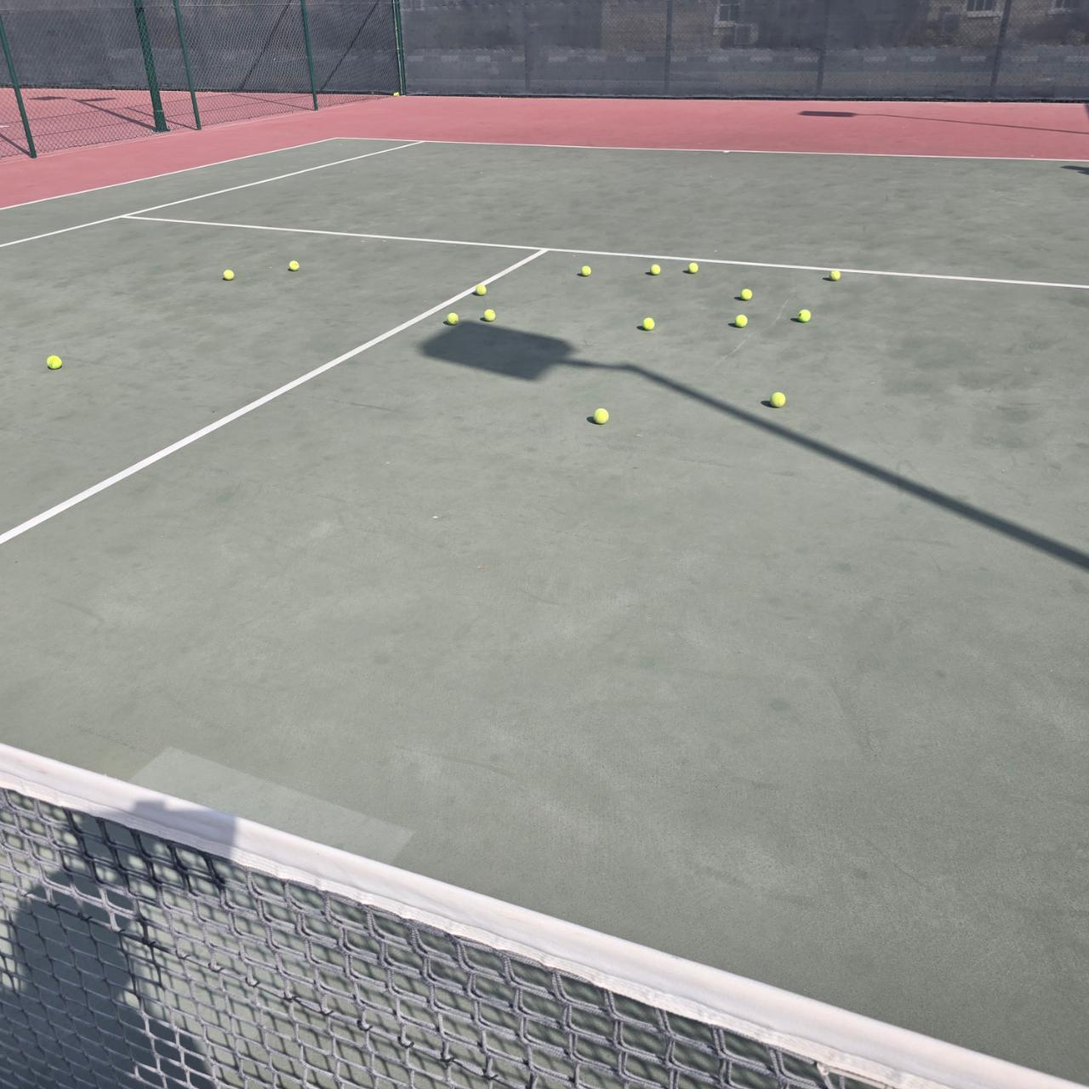tennis-ball: (590, 406, 609, 425), (44, 353, 62, 369), (641, 315, 658, 331), (769, 390, 785, 407), (795, 307, 811, 322), (443, 310, 459, 325), (733, 314, 749, 328), (481, 306, 495, 322), (739, 288, 753, 302), (472, 282, 487, 295), (649, 263, 662, 277), (578, 263, 591, 276), (222, 268, 235, 280), (828, 269, 841, 281), (288, 259, 300, 271), (687, 263, 699, 274), (393, 92, 399, 97)
